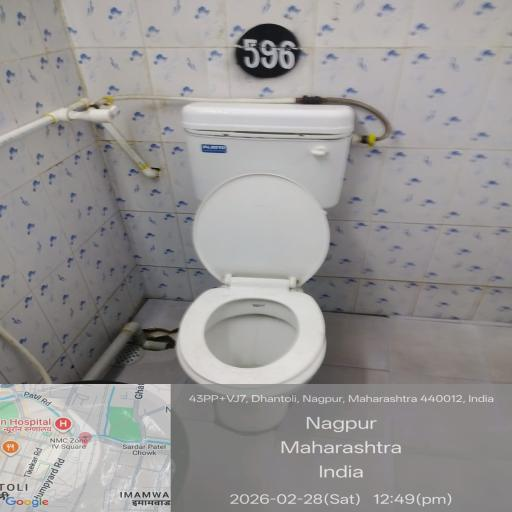clean_floor: (0, 2, 189, 290), (330, 22, 512, 288)
clean_western: (195, 178, 325, 391)
partial_dirty_floor: (308, 306, 512, 389)
